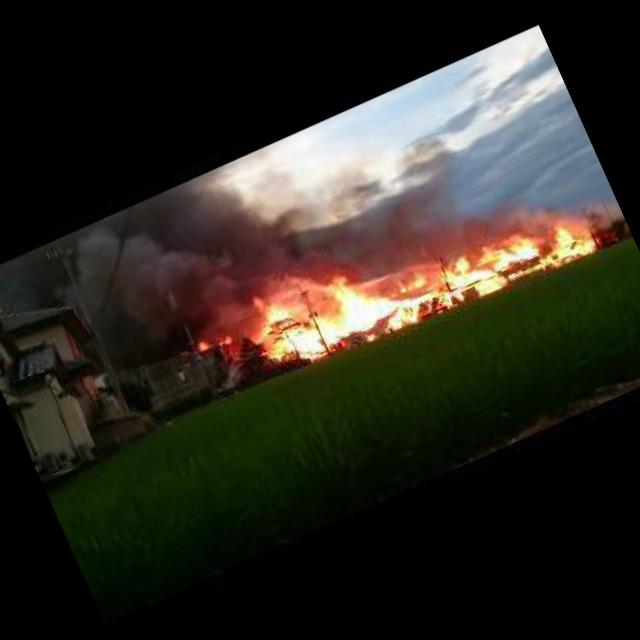fire: (246, 164, 598, 390), (195, 338, 213, 354), (218, 335, 231, 347)
smoke: (42, 96, 448, 380)
